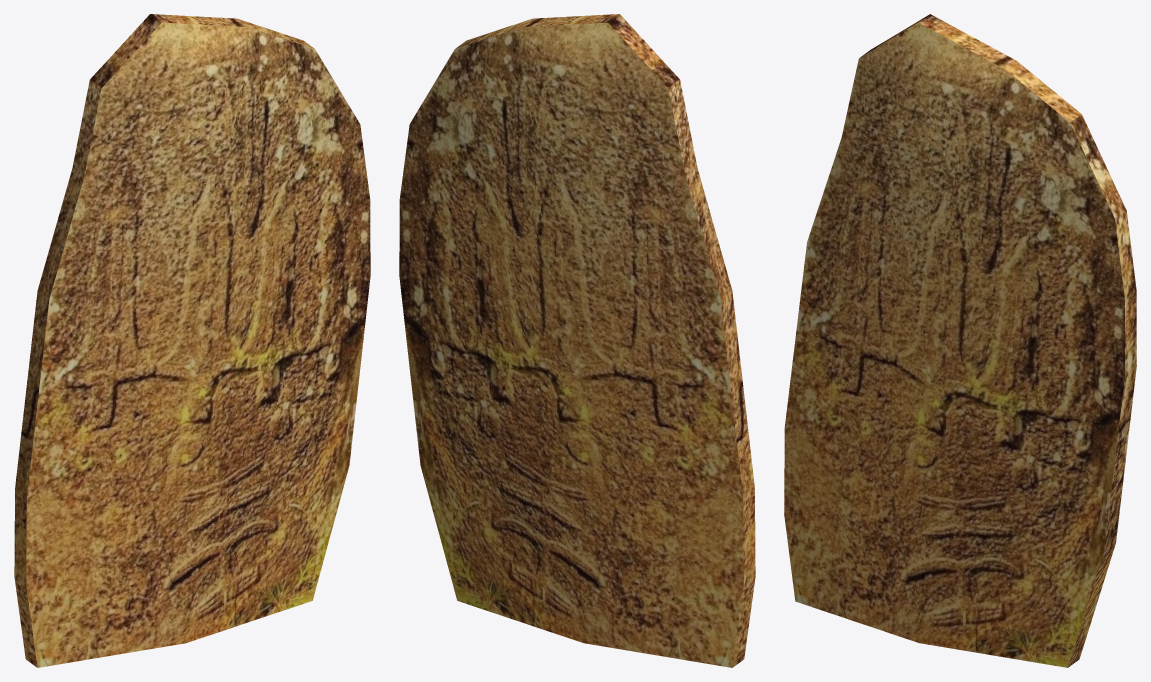
Rendered from Rock7.FBX.
3 renders of one model, left to right at view 1: azimuth 30°, elevation 25°; view 2: azimuth 150°, elevation 25°; view 3: azimuth 330°, elevation 25°, orthographic.
Parts seen in each view (by area): view 1: 7Rock; view 2: 7Rock; view 3: 7Rock.
Part boxes in pixels (x1=…): 7Rock: x1=14, y1=14, x2=370, y2=667; 7Rock: x1=399, y1=14, x2=755, y2=667; 7Rock: x1=784, y1=14, x2=1136, y2=667.
Size of the model in its own units: 5.61 by 9.57 by 1.
